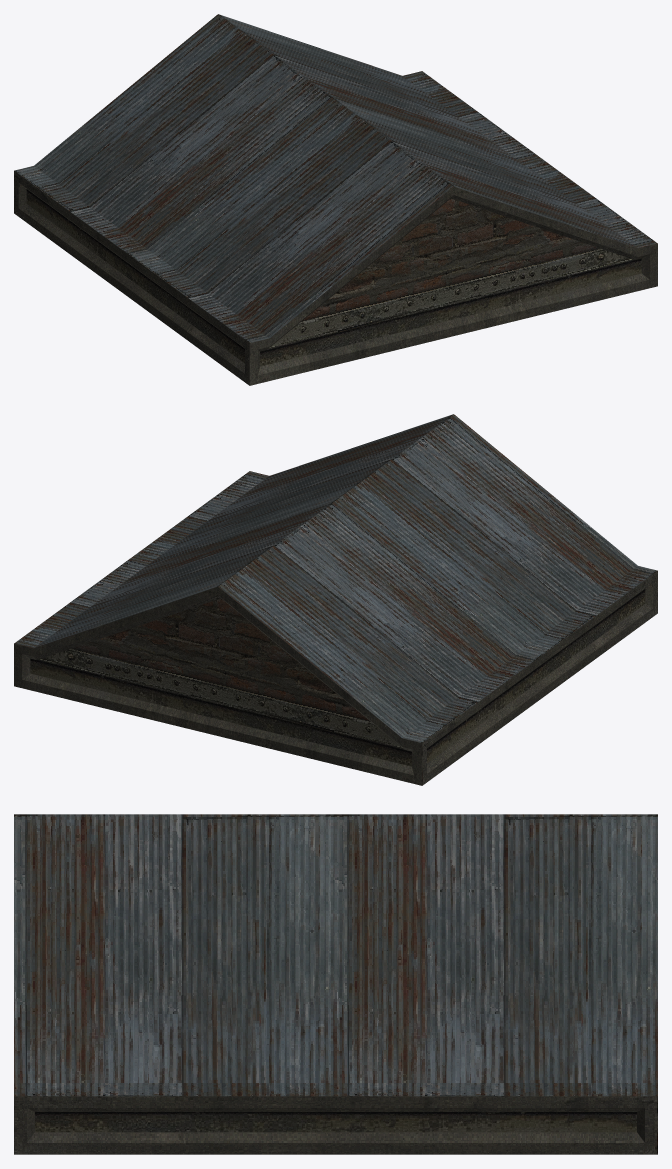
File: roof_bx_2.glb
The picture shows the model from 3 angles, top to bottom: view 1: azimuth 30°, elevation 25°; view 2: azimuth 150°, elevation 25°; view 3: azimuth 270°, elevation 25°; orthographic projection. The views are drawn at different scales.
Parts seen in each view (by area): view 1: roof_bx_2; view 2: roof_bx_2; view 3: roof_bx_2.
Part boxes in pixels (<box>): roof_bx_2: <box>14,14,657,385</box>; roof_bx_2: <box>14,414,657,785</box>; roof_bx_2: <box>14,814,657,1154</box>.
Size of the model in its own units: 4 by 1.4 by 4.
3 materials, 3 textured.
